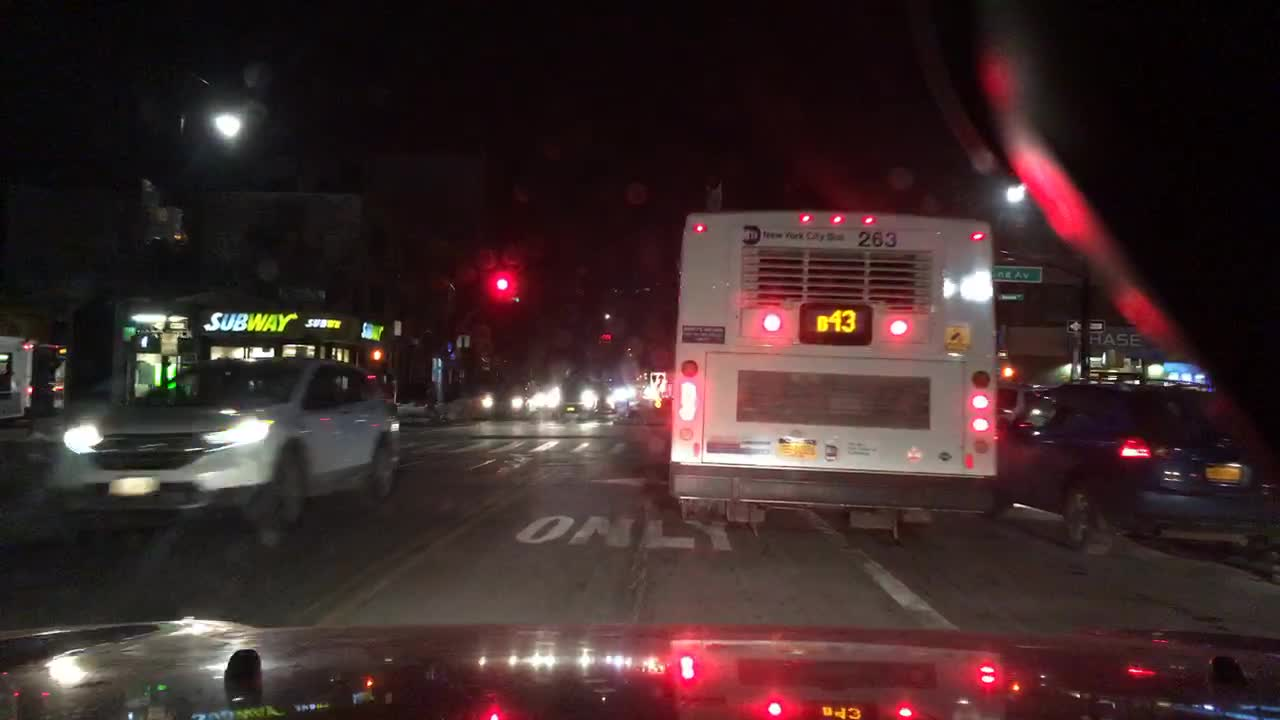bus: (671, 207, 994, 535)
car: (47, 355, 401, 541), (988, 384, 1275, 555), (549, 368, 628, 421), (472, 378, 536, 417), (990, 383, 1045, 421), (636, 380, 670, 424), (532, 383, 561, 411), (27, 378, 63, 400), (625, 378, 646, 396)
person: (383, 368, 401, 408)
traffic light: (142, 183, 168, 240), (490, 275, 512, 298), (168, 207, 182, 238), (1000, 366, 1015, 383), (370, 346, 383, 361), (597, 331, 611, 341)
traffic sign: (990, 268, 1041, 281), (1069, 320, 1103, 331), (650, 373, 667, 391), (55, 344, 68, 355), (456, 335, 467, 346)
